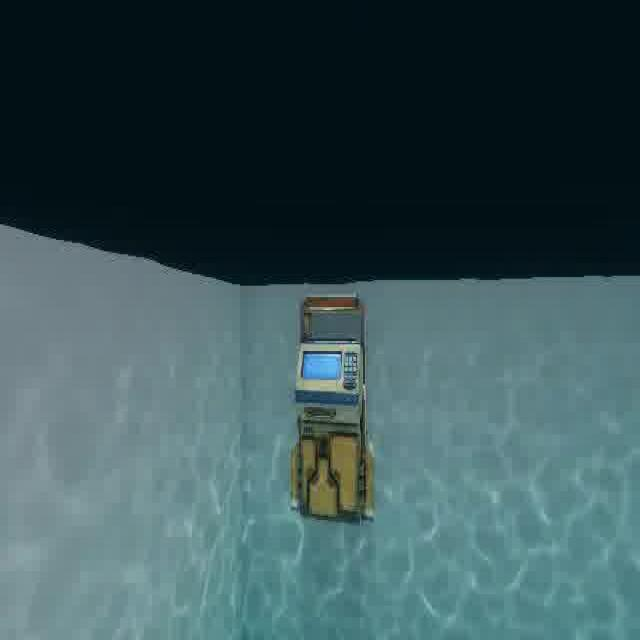Control Panel: (283, 290, 384, 535)
